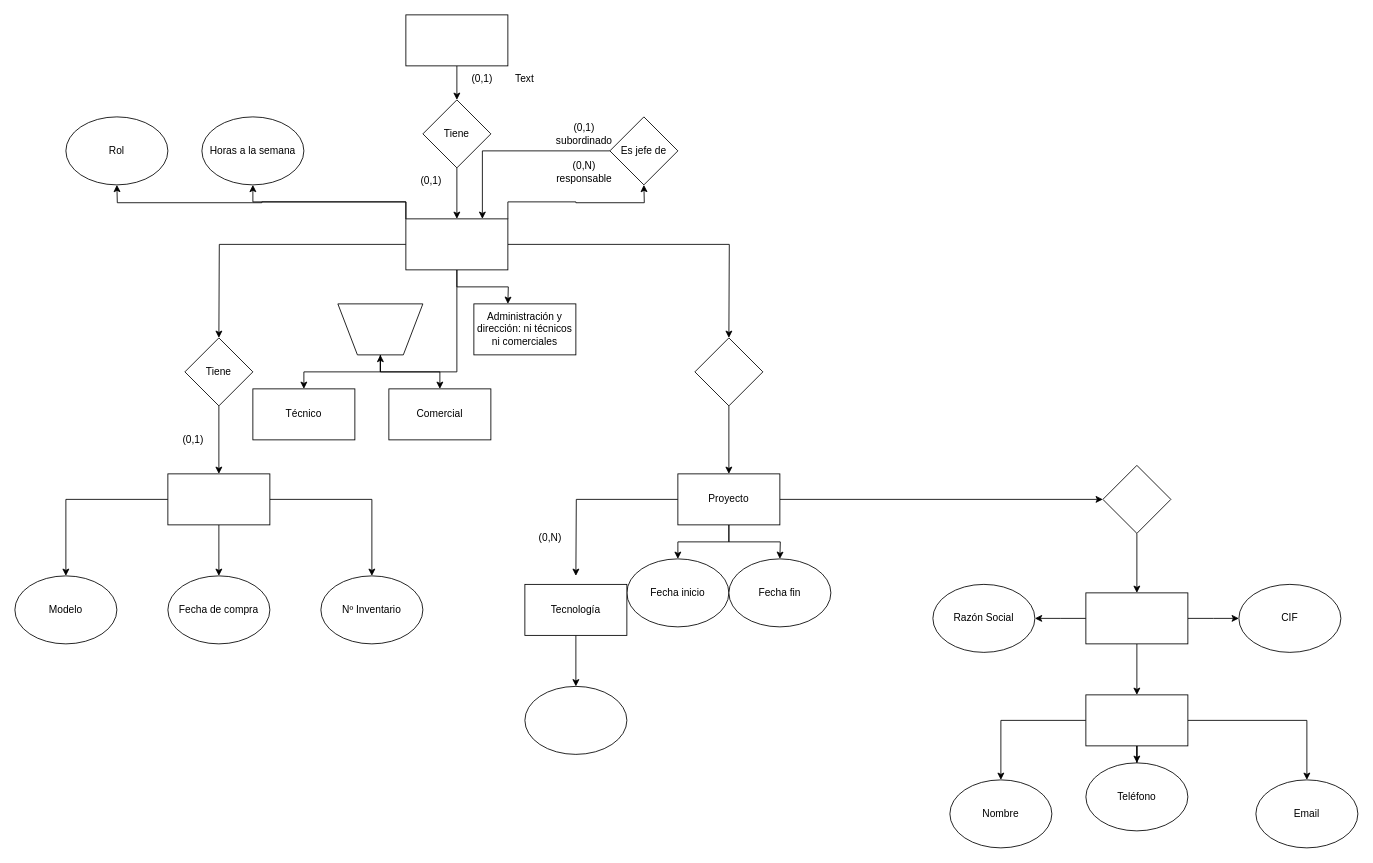
Some shapes in this 1373 by 863 pixel diagram are drawn without their labels. The shapes that lost their labels are listed below. From the top down, each one's centre as x and y in pixels, then its label:
(x=456, y=40): Departamento
(x=456, y=244): Empleado
(x=380, y=329): Es un parcial, exclusiva
(x=728, y=371): Trabaja en
(x=218, y=499): Portátil
(x=1136, y=499): Para
(x=1136, y=618): Cliente
(x=575, y=720): Nombre de tecnología
(x=1136, y=720): Persona de contacto
